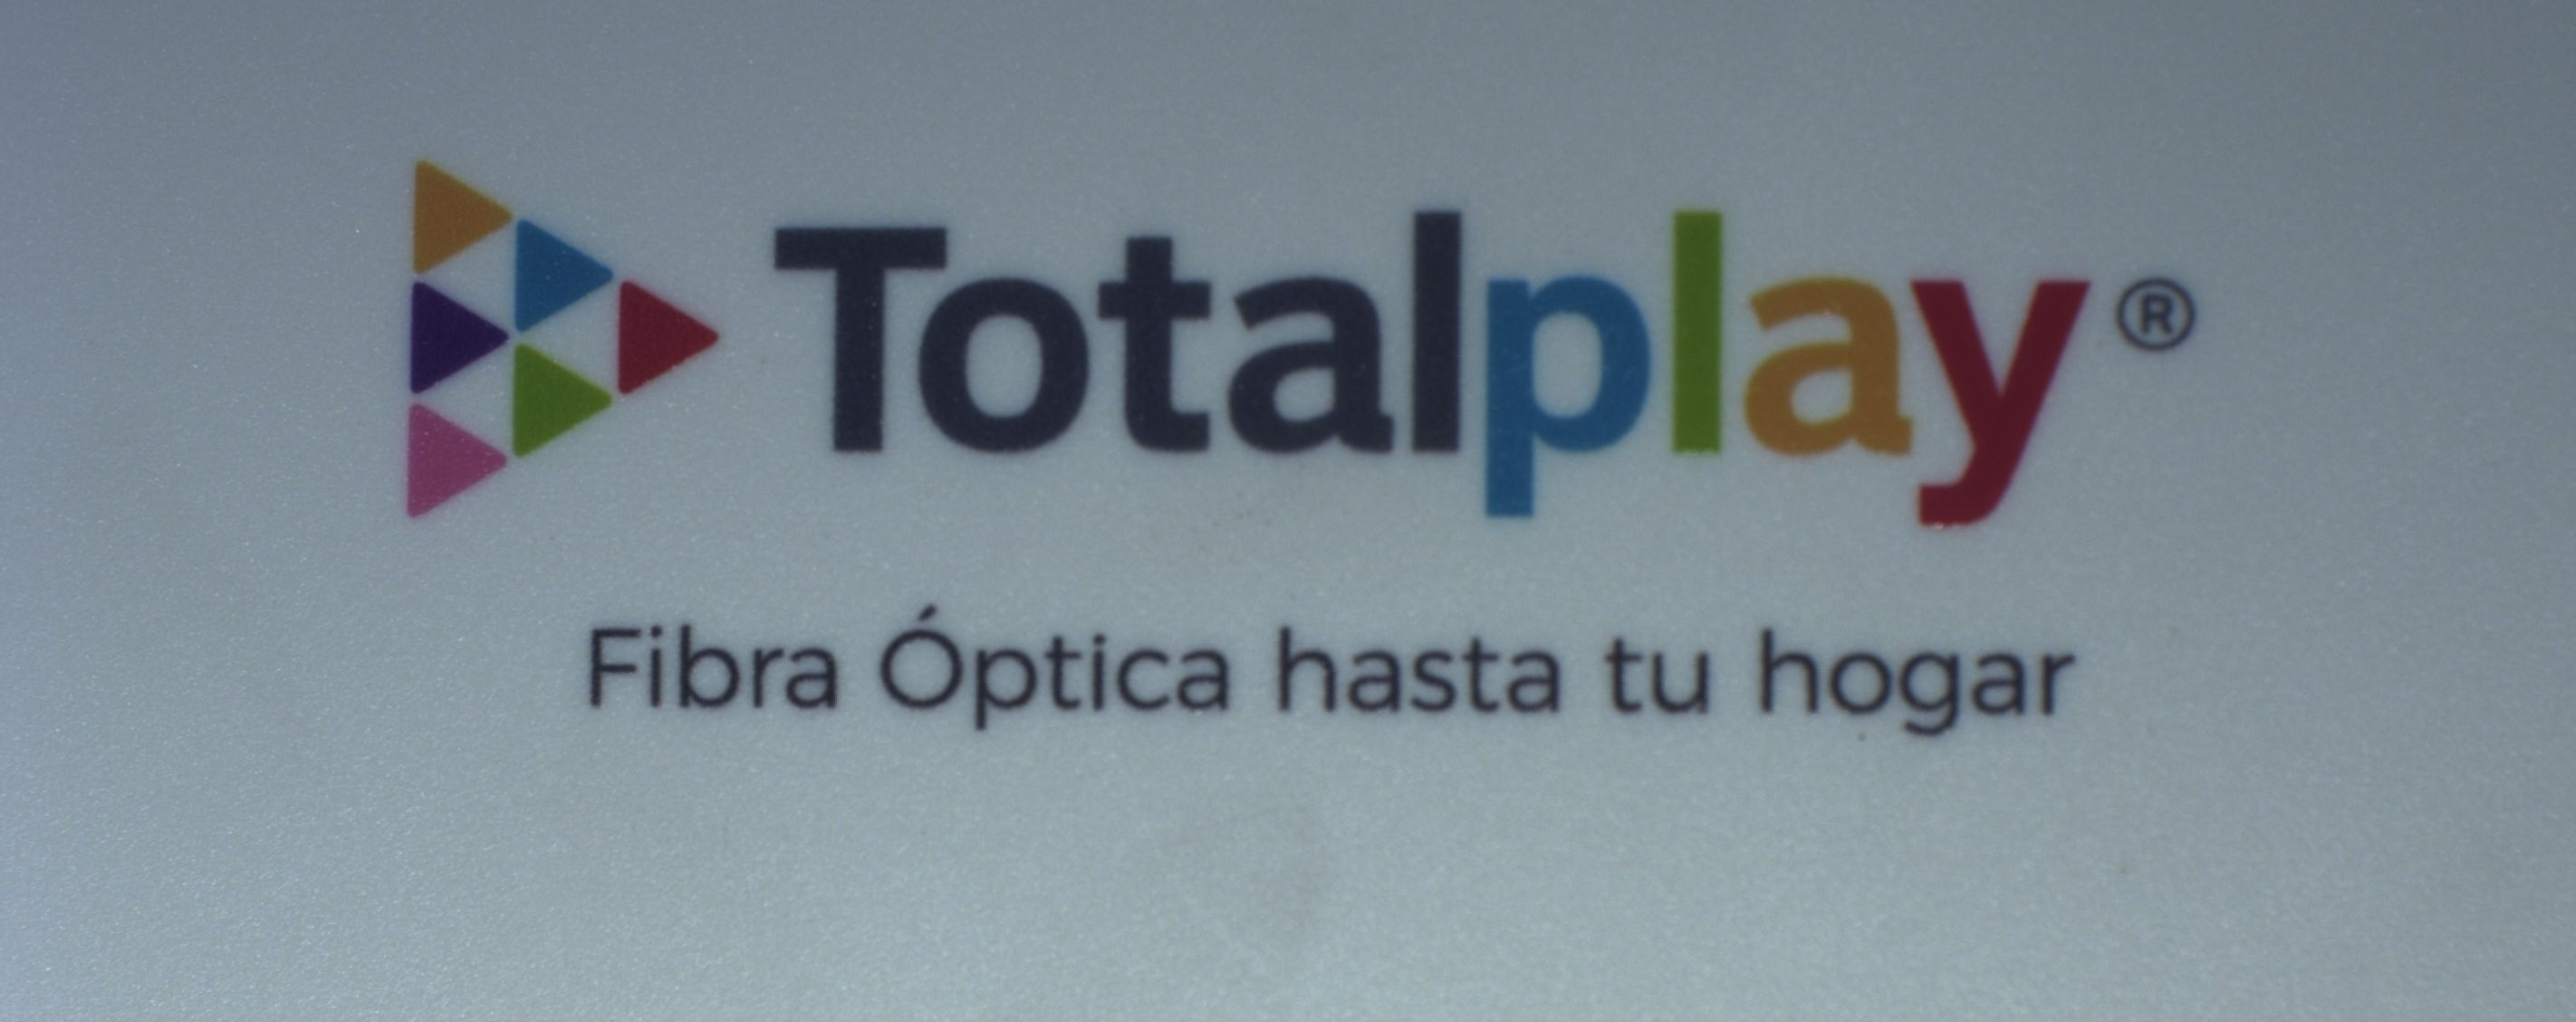BP_TotalPlay: (368, 161, 2228, 762)
